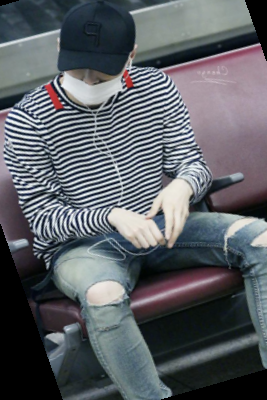mask_weared_incorrect: (39, 1, 147, 111)
